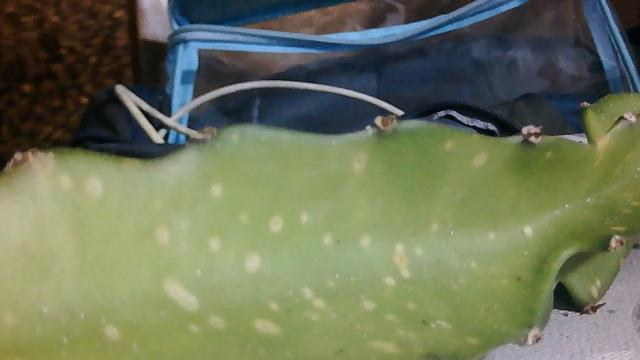stemcanker: (1, 140, 547, 360)
